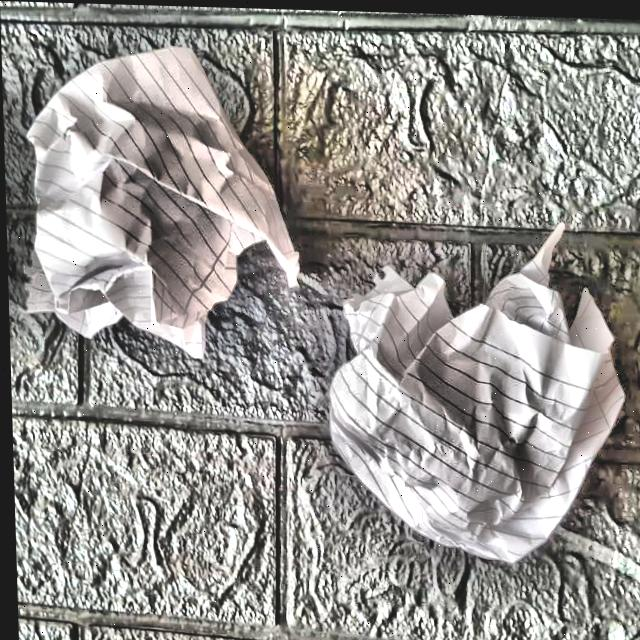paper: (326, 220, 598, 560), (10, 28, 289, 343)
